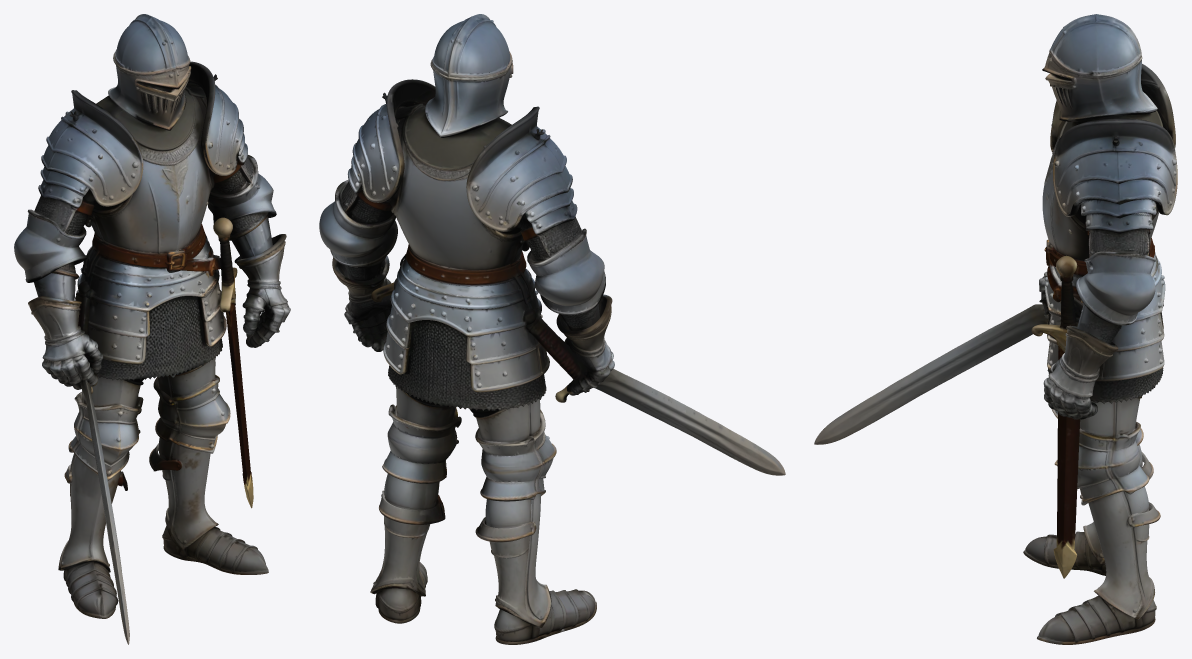
The model's file is TC004_Hunyuan 3D Pro.glb.
The picture shows the model from 3 angles, left to right: view 1: azimuth 30°, elevation 25°; view 2: azimuth 150°, elevation 25°; view 3: azimuth 270°, elevation 25°; orthographic projection. The views are drawn at different scales.
Visible parts, largest first — view 1: node_0; view 2: node_0; view 3: node_0.
Boxes of the visible parts, x1=… form: node_0: x1=14, y1=14, x2=290, y2=644; node_0: x1=319, y1=14, x2=785, y2=644; node_0: x1=814, y1=14, x2=1177, y2=644.
Bounding box in the file's own units: 0.57 × 1.06 × 0.5987.
Materials: 1 (1 with a texture image).
